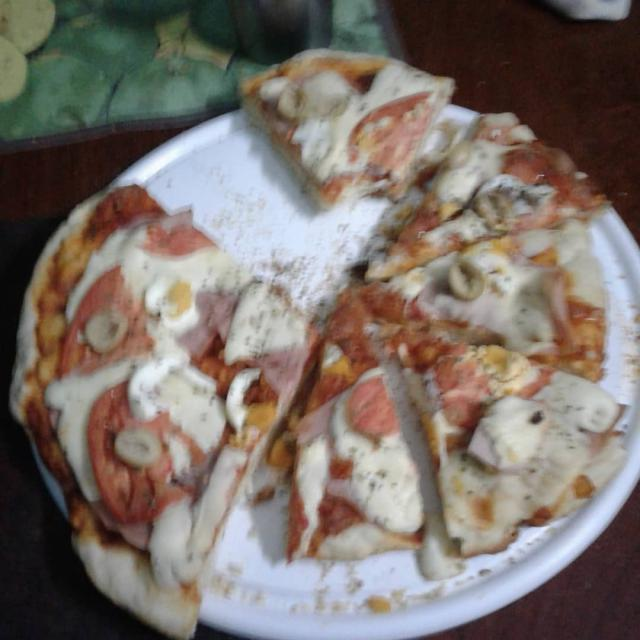green_olives: (114, 426, 164, 468), (448, 255, 487, 302), (88, 304, 124, 352), (478, 193, 515, 233)
pizza: (9, 51, 636, 640)
tomatoes: (87, 379, 203, 521), (51, 262, 160, 374), (426, 353, 556, 428), (355, 91, 441, 186), (493, 143, 568, 229), (351, 374, 401, 434), (146, 222, 217, 251)
